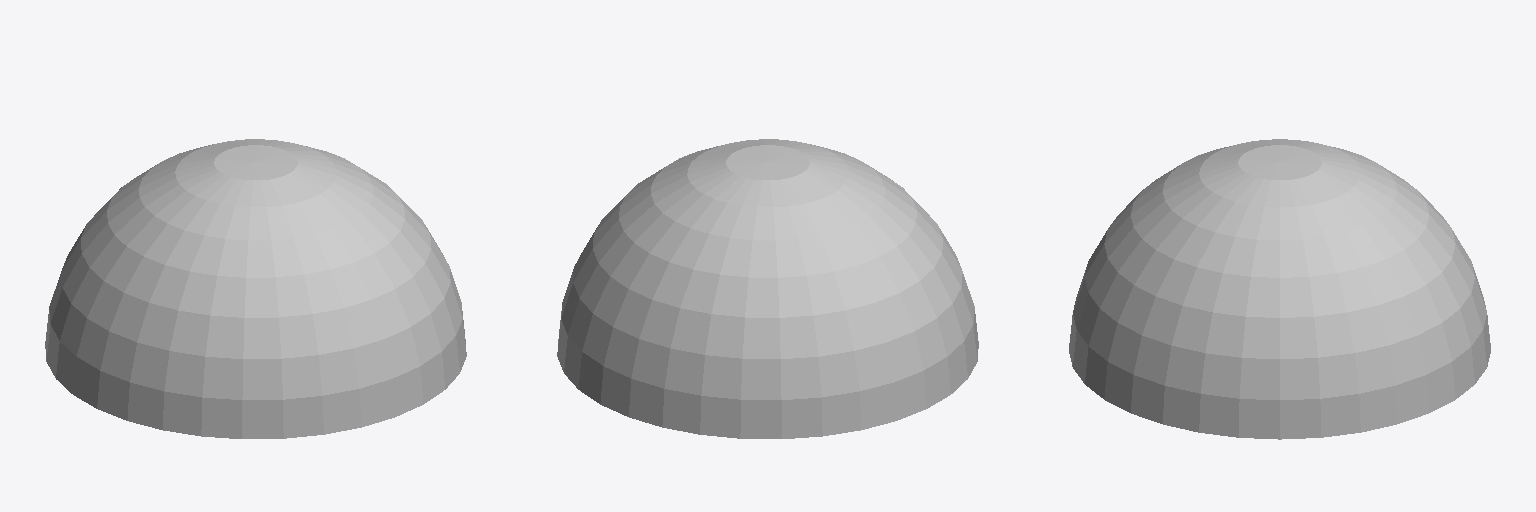
File: DomeInverted.obj
3 views of the same model, side by side, from view 1: azimuth 30°, elevation 25°; view 2: azimuth 150°, elevation 25°; view 3: azimuth 270°, elevation 25° (orthographic).
Visible parts, largest first — view 1: Sphere.003; view 2: Sphere.003; view 3: Sphere.003.
Boxes of the visible parts, x1=… form: Sphere.003: x1=45, y1=139, x2=466, y2=438; Sphere.003: x1=557, y1=139, x2=978, y2=438; Sphere.003: x1=1069, y1=139, x2=1490, y2=439.
Bounding box in the file's own units: 200 × 98.47 × 200.